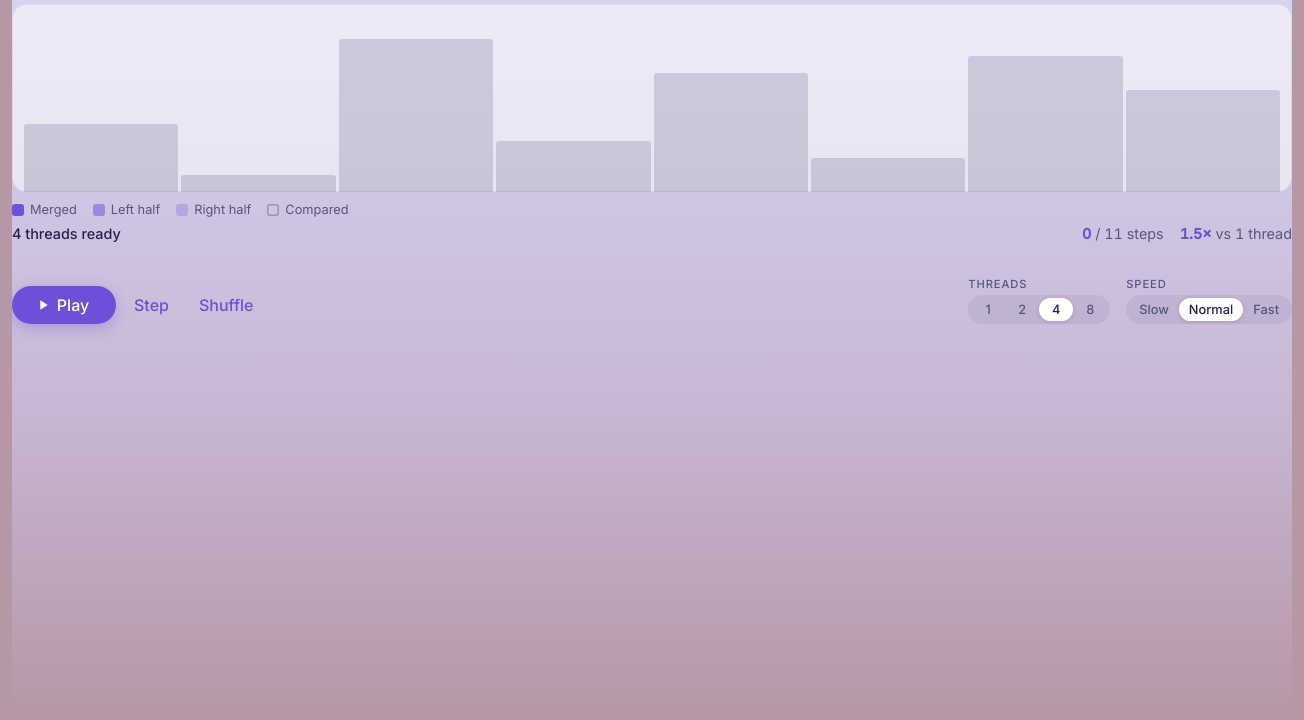
switching to one thread restarts without a speedup
The image size is (1304, 720).
Click the button named "1 thread". click: (988, 309)
box: [971, 298, 1005, 321]
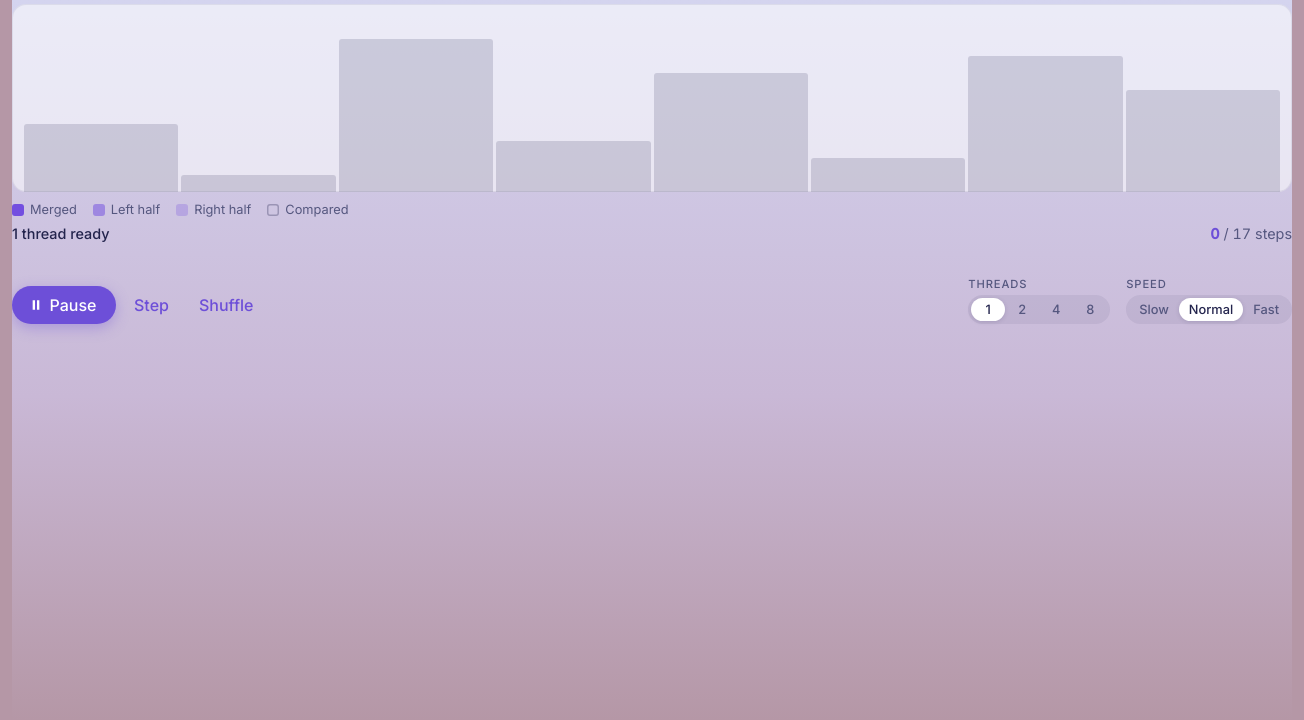
Expected: the text "vs 1 thread" is gone
Expected: the button "Pause" is shown, [12, 286, 116, 324]
